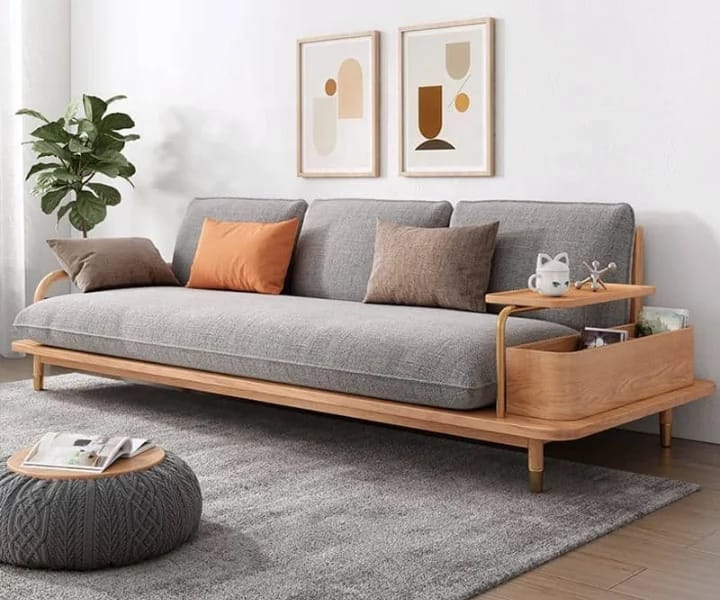3seatersofa: (12, 197, 714, 489)
backrest: (174, 197, 646, 299)
base: (14, 340, 715, 440)
leftarmrest: (496, 302, 533, 416)
leg: (528, 439, 543, 492), (660, 411, 671, 448), (33, 355, 44, 389)
pillow: (364, 220, 496, 309), (187, 218, 298, 293), (48, 239, 177, 291)
rightarmrest: (33, 268, 69, 302)
seat: (16, 287, 495, 409), (507, 314, 579, 344)
